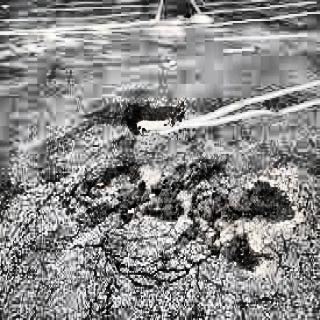alligator-crack: (84, 247, 251, 315), (23, 186, 72, 241)
pothole: (152, 165, 269, 258), (77, 153, 137, 195), (124, 108, 180, 142)
